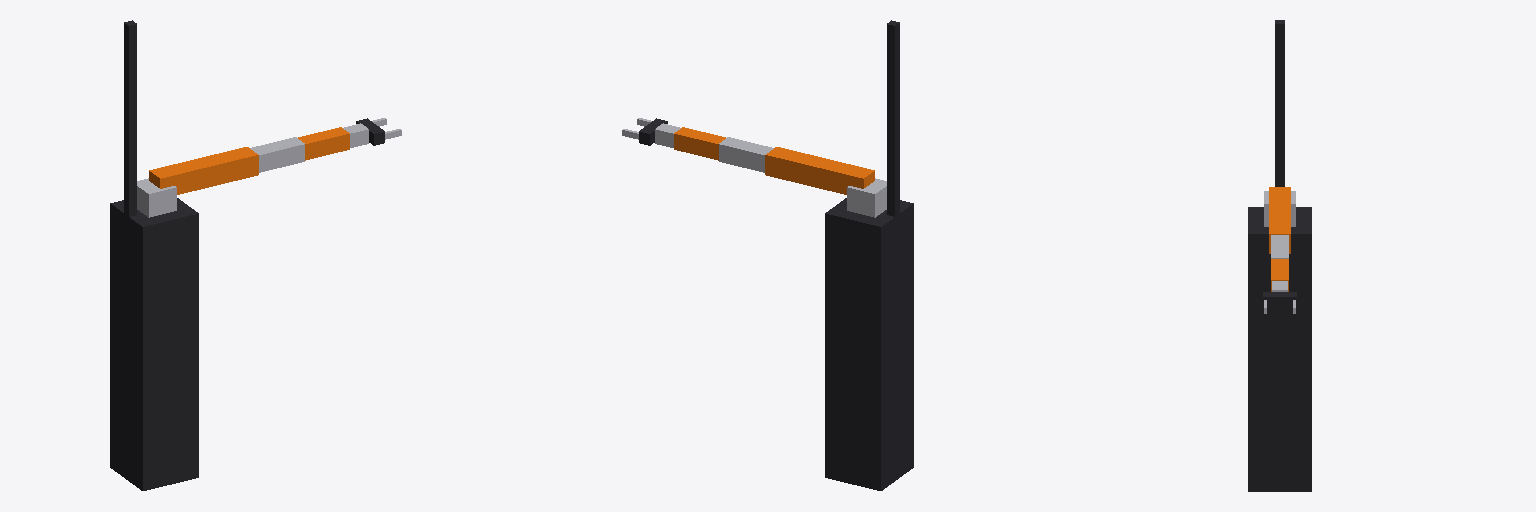
URDF robot description (arm6):
<?xml version="1.0"?>
<!-- arm6: a six-joint arm on a pedestal with a parallel gripper, built from boxes only.
     Written for omakase-bench as a second robot description; it models no product. -->
<robot name="arm6">
  <link name="base_footprint" />
  <link name="pedestal">
    <inertial><origin xyz="0 0 0.45" rpy="0 0 0" /><mass value="40" /><inertia ixx="2.833333" iyy="2.833333" izz="0.266667" ixy="0" ixz="0" iyz="0" /></inertial>
    <visual><origin xyz="0 0 0.45" rpy="0 0 0" /><geometry><box size="0.2 0.2 0.9" /></geometry><material name="pedestal_colour"><color rgba="0.2 0.2 0.22 1" /></material></visual>
    <collision><origin xyz="0 0 0.45" rpy="0 0 0" /><geometry><box size="0.2 0.2 0.9" /></geometry></collision>
  </link>
  <joint name="pedestal_joint" type="fixed">
    <origin xyz="0 0 0" rpy="0 0 0" />
    <parent link="base_footprint" />
    <child link="pedestal" />
  </joint>
  <link name="shoulder_link">
    <inertial><origin xyz="0 0 0.04" rpy="0 0 0" /><mass value="2" /><inertia ixx="0.002733" iyy="0.002733" izz="0.003333" ixy="0" ixz="0" iyz="0" /></inertial>
    <visual><origin xyz="0 0 0.04" rpy="0 0 0" /><geometry><box size="0.1 0.1 0.08" /></geometry><material name="shoulder_link_colour"><color rgba="0.75 0.75 0.78 1" /></material></visual>
    <collision><origin xyz="0 0 0.04" rpy="0 0 0" /><geometry><box size="0.1 0.1 0.08" /></geometry></collision>
  </link>
  <joint name="joint1" type="revolute">
    <origin xyz="0 0 0.90" rpy="0 0 0" />
    <parent link="pedestal" />
    <child link="shoulder_link" />
    <axis xyz="0 0 1" />
    <limit lower="-2.9" upper="2.9" effort="80" velocity="2" />
  </joint>
  <link name="upper_arm_link">
    <inertial><origin xyz="0.175 0 0" rpy="0 0 0" /><mass value="2" /><inertia ixx="0.001633" iyy="0.021233" izz="0.021233" ixy="0" ixz="0" iyz="0" /></inertial>
    <visual><origin xyz="0.175 0 0" rpy="0 0 0" /><geometry><box size="0.35 0.07 0.07" /></geometry><material name="upper_arm_link_colour"><color rgba="0.95 0.5 0.1 1" /></material></visual>
    <collision><origin xyz="0.175 0 0" rpy="0 0 0" /><geometry><box size="0.35 0.07 0.07" /></geometry></collision>
  </link>
  <joint name="joint2" type="revolute">
    <origin xyz="0 0 0.08" rpy="0 0 0" />
    <parent link="shoulder_link" />
    <child link="upper_arm_link" />
    <axis xyz="0 1 0" />
    <limit lower="-2.6" upper="1" effort="80" velocity="2" />
  </joint>
  <link name="forearm_link">
    <inertial><origin xyz="0.085 0 0" rpy="0 0 0" /><mass value="1" /><inertia ixx="0.000600" iyy="0.002708" izz="0.002708" ixy="0" ixz="0" iyz="0" /></inertial>
    <visual><origin xyz="0.085 0 0" rpy="0 0 0" /><geometry><box size="0.17 0.06 0.06" /></geometry><material name="forearm_link_colour"><color rgba="0.75 0.75 0.78 1" /></material></visual>
    <collision><origin xyz="0.085 0 0" rpy="0 0 0" /><geometry><box size="0.17 0.06 0.06" /></geometry></collision>
  </link>
  <joint name="joint3" type="revolute">
    <origin xyz="0.35 0 0" rpy="0 0 0" />
    <parent link="upper_arm_link" />
    <child link="forearm_link" />
    <axis xyz="0 1 0" />
    <limit lower="-0.3" upper="2.7" effort="60" velocity="2" />
  </joint>
  <link name="wrist_roll_link">
    <inertial><origin xyz="0.08 0 0" rpy="0 0 0" /><mass value="0.8" /><inertia ixx="0.000403" iyy="0.001908" izz="0.001908" ixy="0" ixz="0" iyz="0" /></inertial>
    <visual><origin xyz="0.08 0 0" rpy="0 0 0" /><geometry><box size="0.16 0.055 0.055" /></geometry><material name="wrist_roll_link_colour"><color rgba="0.95 0.5 0.1 1" /></material></visual>
    <collision><origin xyz="0.08 0 0" rpy="0 0 0" /><geometry><box size="0.16 0.055 0.055" /></geometry></collision>
  </link>
  <joint name="joint4" type="revolute">
    <origin xyz="0.17 0 0" rpy="0 0 0" />
    <parent link="forearm_link" />
    <child link="wrist_roll_link" />
    <axis xyz="1 0 0" />
    <limit lower="-3" upper="3" effort="30" velocity="3" />
  </joint>
  <link name="wrist_pitch_link">
    <inertial><origin xyz="0.035 0 0" rpy="0 0 0" /><mass value="0.4" /><inertia ixx="0.000167" iyy="0.000247" izz="0.000247" ixy="0" ixz="0" iyz="0" /></inertial>
    <visual><origin xyz="0.035 0 0" rpy="0 0 0" /><geometry><box size="0.07 0.05 0.05" /></geometry><material name="wrist_pitch_link_colour"><color rgba="0.75 0.75 0.78 1" /></material></visual>
    <collision><origin xyz="0.035 0 0" rpy="0 0 0" /><geometry><box size="0.07 0.05 0.05" /></geometry></collision>
  </link>
  <joint name="joint5" type="revolute">
    <origin xyz="0.16 0 0" rpy="0 0 0" />
    <parent link="wrist_roll_link" />
    <child link="wrist_pitch_link" />
    <axis xyz="0 1 0" />
    <limit lower="-2" upper="2" effort="30" velocity="3" />
  </joint>
  <link name="tool_link">
    <inertial><origin xyz="0.02 0 0" rpy="0 0 0" /><mass value="0.3" /><inertia ixx="0.000342" iyy="0.000080" izz="0.000342" ixy="0" ixz="0" iyz="0" /></inertial>
    <visual><origin xyz="0.02 0 0" rpy="0 0 0" /><geometry><box size="0.04 0.11 0.04" /></geometry><material name="tool_link_colour"><color rgba="0.2 0.2 0.22 1" /></material></visual>
    <collision><origin xyz="0.02 0 0" rpy="0 0 0" /><geometry><box size="0.04 0.11 0.04" /></geometry></collision>
  </link>
  <joint name="joint6" type="revolute">
    <origin xyz="0.07 0 0" rpy="0 0 0" />
    <parent link="wrist_pitch_link" />
    <child link="tool_link" />
    <axis xyz="1 0 0" />
    <limit lower="-3" upper="3" effort="20" velocity="3" />
  </joint>
  <link name="finger_l_link">
    <inertial><origin xyz="0.03 0 0" rpy="0 0 0" /><mass value="0.05" /><inertia ixx="0.000002" iyy="0.000017" izz="0.000016" ixy="0" ixz="0" iyz="0" /></inertial>
    <visual><origin xyz="0.03 0 0" rpy="0 0 0" /><geometry><box size="0.06 0.012 0.02" /></geometry><material name="finger_l_link_colour"><color rgba="0.75 0.75 0.78 1" /></material></visual>
    <collision><origin xyz="0.03 0 0" rpy="0 0 0" /><geometry><box size="0.06 0.012 0.02" /></geometry></collision>
  </link>
  <joint name="finger_l_joint" type="prismatic">
    <origin xyz="0.04 0.046 0" rpy="0 0 0" />
    <parent link="tool_link" />
    <child link="finger_l_link" />
    <axis xyz="0 -1 0" />
    <limit lower="0" upper="0.04" effort="60" velocity="0.1" />
  </joint>
  <link name="finger_r_link">
    <inertial><origin xyz="0.03 0 0" rpy="0 0 0" /><mass value="0.05" /><inertia ixx="0.000002" iyy="0.000017" izz="0.000016" ixy="0" ixz="0" iyz="0" /></inertial>
    <visual><origin xyz="0.03 0 0" rpy="0 0 0" /><geometry><box size="0.06 0.012 0.02" /></geometry><material name="finger_r_link_colour"><color rgba="0.75 0.75 0.78 1" /></material></visual>
    <collision><origin xyz="0.03 0 0" rpy="0 0 0" /><geometry><box size="0.06 0.012 0.02" /></geometry></collision>
  </link>
  <joint name="finger_r_joint" type="prismatic">
    <origin xyz="0.04 -0.046 0" rpy="0 0 0" />
    <parent link="tool_link" />
    <child link="finger_r_link" />
    <axis xyz="0 1 0" />
    <limit lower="0" upper="0.04" effort="60" velocity="0.1" />
  </joint>
  <link name="tcp" />
  <joint name="tcp_joint" type="fixed">
    <origin xyz="0.09 0 0" rpy="0 0 0" />
    <parent link="tool_link" />
    <child link="tcp" />
  </joint>
  <link name="mast">
    <inertial><origin xyz="0 0 0.325" rpy="0 0 0" /><mass value="1" /><inertia ixx="0.035283" iyy="0.035283" izz="0.000150" ixy="0" ixz="0" iyz="0" /></inertial>
    <visual><origin xyz="0 0 0.325" rpy="0 0 0" /><geometry><box size="0.03 0.03 0.65" /></geometry><material name="mast_colour"><color rgba="0.2 0.2 0.22 1" /></material></visual>
    <collision><origin xyz="0 0 0.325" rpy="0 0 0" /><geometry><box size="0.03 0.03 0.65" /></geometry></collision>
  </link>
  <joint name="mast_joint" type="fixed">
    <origin xyz="-0.085 0 0.90" rpy="0 0 0" />
    <parent link="pedestal" />
    <child link="mast" />
  </joint>
  <link name="head_camera_optical" />
  <joint name="head_camera_joint" type="fixed">
    <origin xyz="-0.02 0 1.55" rpy="-2.59357 -0.00000 -1.57080" />
    <parent link="base_footprint" />
    <child link="head_camera_optical" />
  </joint>
  <link name="wrist_camera_optical" />
  <joint name="wrist_camera_joint" type="fixed">
    <origin xyz="0.0 0 0.045" rpy="-1.57080 -0.00000 -1.57080" />
    <parent link="tool_link" />
    <child link="wrist_camera_optical" />
  </joint>
</robot>

--- What the picture shows (computed from the rendered views, not written in the file) ---
3 views of the same robot in one strip: view 1: azimuth 30°, elevation 25°; view 2: azimuth 150°, elevation 25°; view 3: azimuth 270°, elevation 25° (orthographic).
Model arm6 with 14 links and 13 joints (6 revolute, 2 prismatic, 5 fixed), rooted at base_footprint, posed all joints at 0.
Visible links, largest first — view 1: pedestal, upper_arm_link, mast, forearm_link, shoulder_link, wrist_roll_link; view 2: pedestal, upper_arm_link, mast, forearm_link, shoulder_link, wrist_roll_link; view 3: pedestal, mast, upper_arm_link.
Boxes of the visible links, box(x1,y1,x2,y2) form: pedestal: box(110, 198, 198, 490); upper_arm_link: box(149, 147, 258, 194); mast: box(124, 20, 136, 216); forearm_link: box(250, 137, 304, 172); shoulder_link: box(137, 178, 176, 217); wrist_roll_link: box(298, 127, 349, 160); pedestal: box(825, 198, 913, 490); upper_arm_link: box(765, 147, 874, 194); mast: box(887, 20, 899, 216); forearm_link: box(719, 137, 773, 172); shoulder_link: box(847, 178, 886, 217); wrist_roll_link: box(674, 127, 725, 160); pedestal: box(1248, 207, 1311, 491); mast: box(1275, 20, 1284, 186); upper_arm_link: box(1269, 187, 1290, 253).
Bounding box of the posed robot: 0.95 × 0.2 × 1.55 m (x, y, z).
Geometry: primitives only (box / cylinder / sphere), no mesh files.
